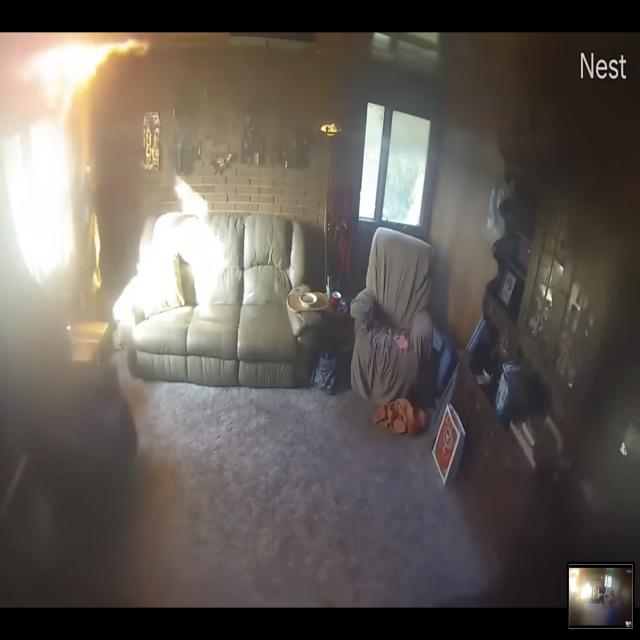Fogo: (16, 38, 171, 186)
